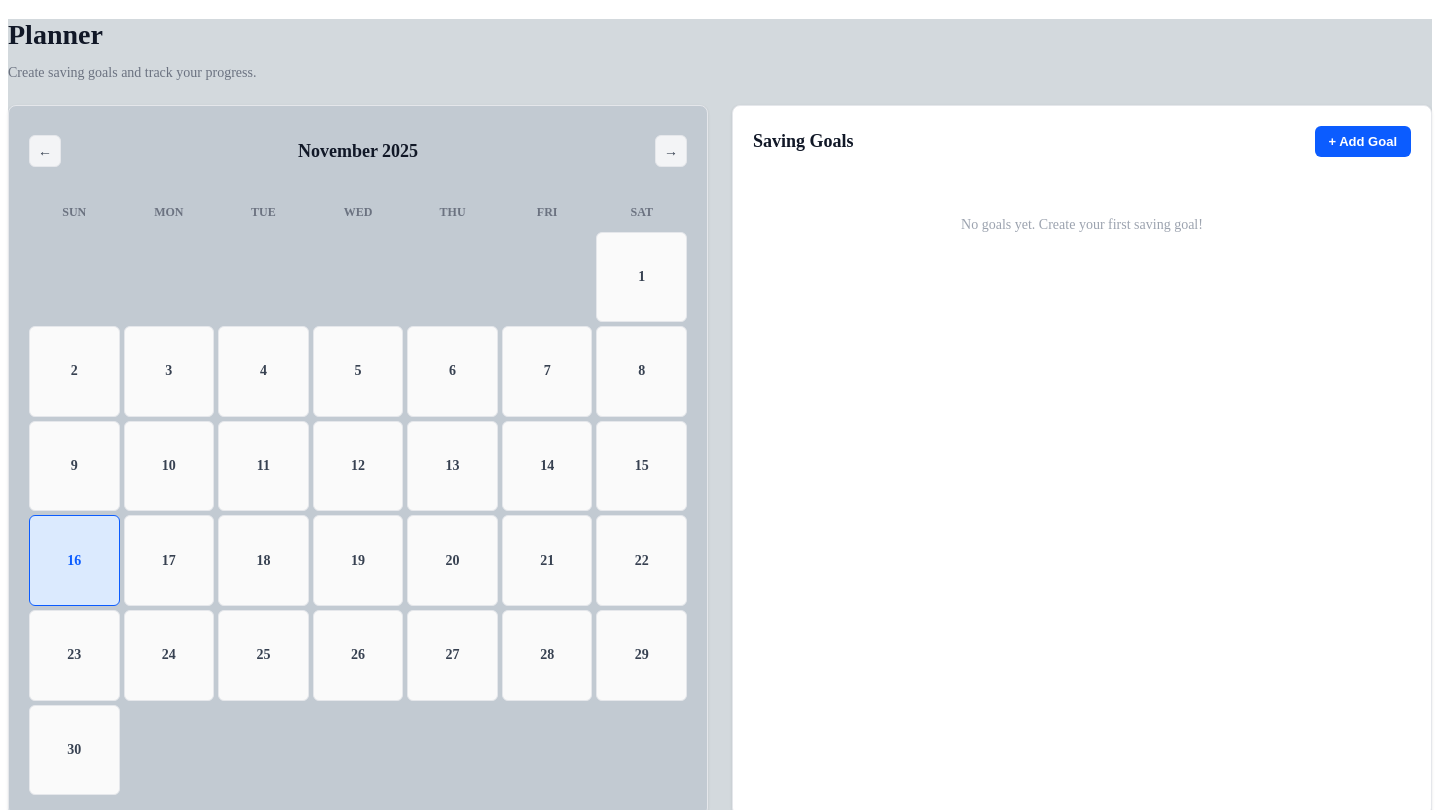
Test: FT13 - Planner Component Tests › Create New Saving Goals › should successfully create a new goal with all fields
Step 1. Click the button "+ Add Goal" → click(1363, 141), box [1314,126,1411,157]
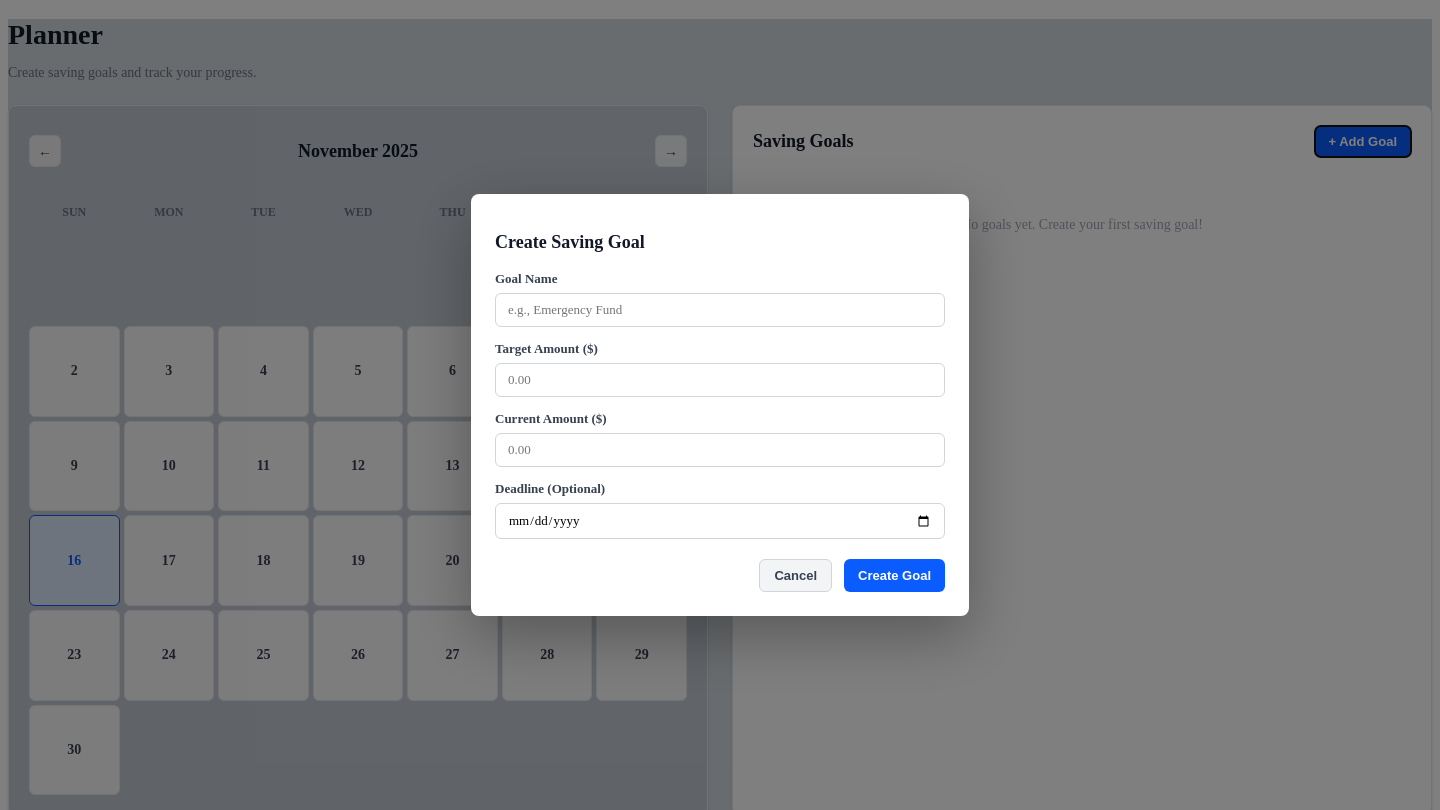
Result: the heading "Create Saving Goal" is shown at [495,232,645,252]
Step 2. Type "Emergency Fund" into the field with placeholder "e.g., Emergency Fund" → (720, 310), box [495,294,945,328]
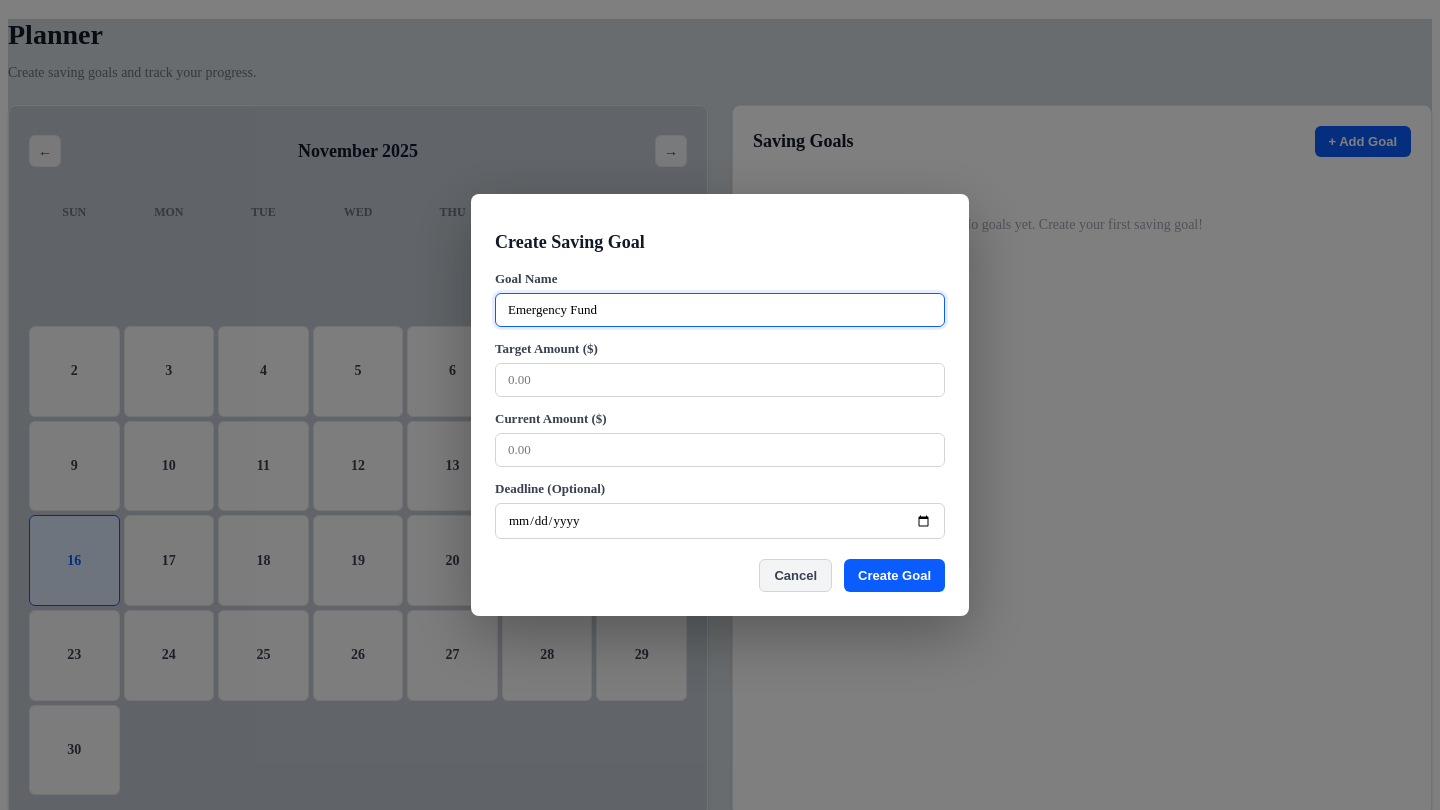
Step 3. Type "5000" into the number field with placeholder "0.00" below "Target Amount ($)" → (720, 380), box [495,364,945,398]
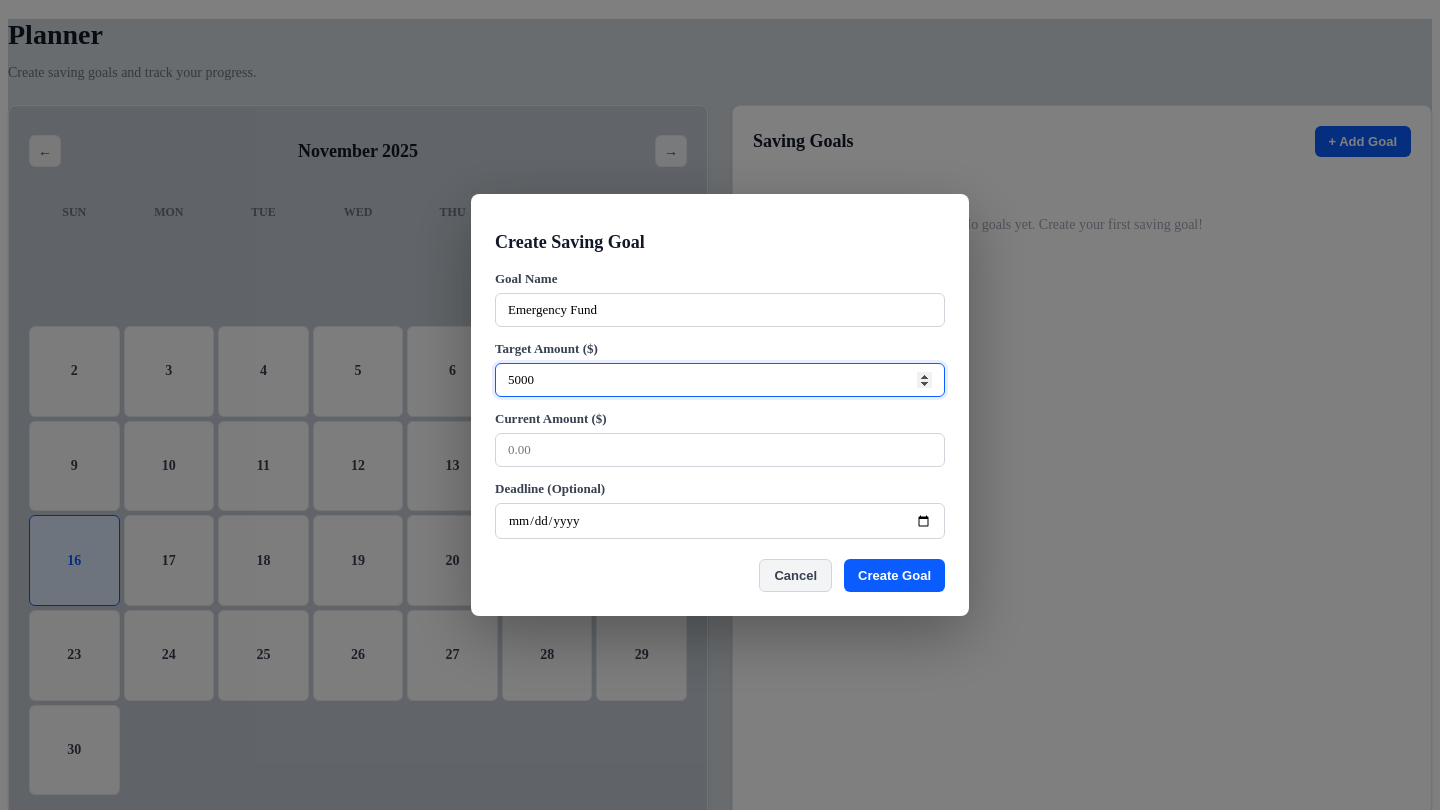
Step 4. Type "1000" into the number field with placeholder "0.00" → (720, 450), box [495,434,945,468]
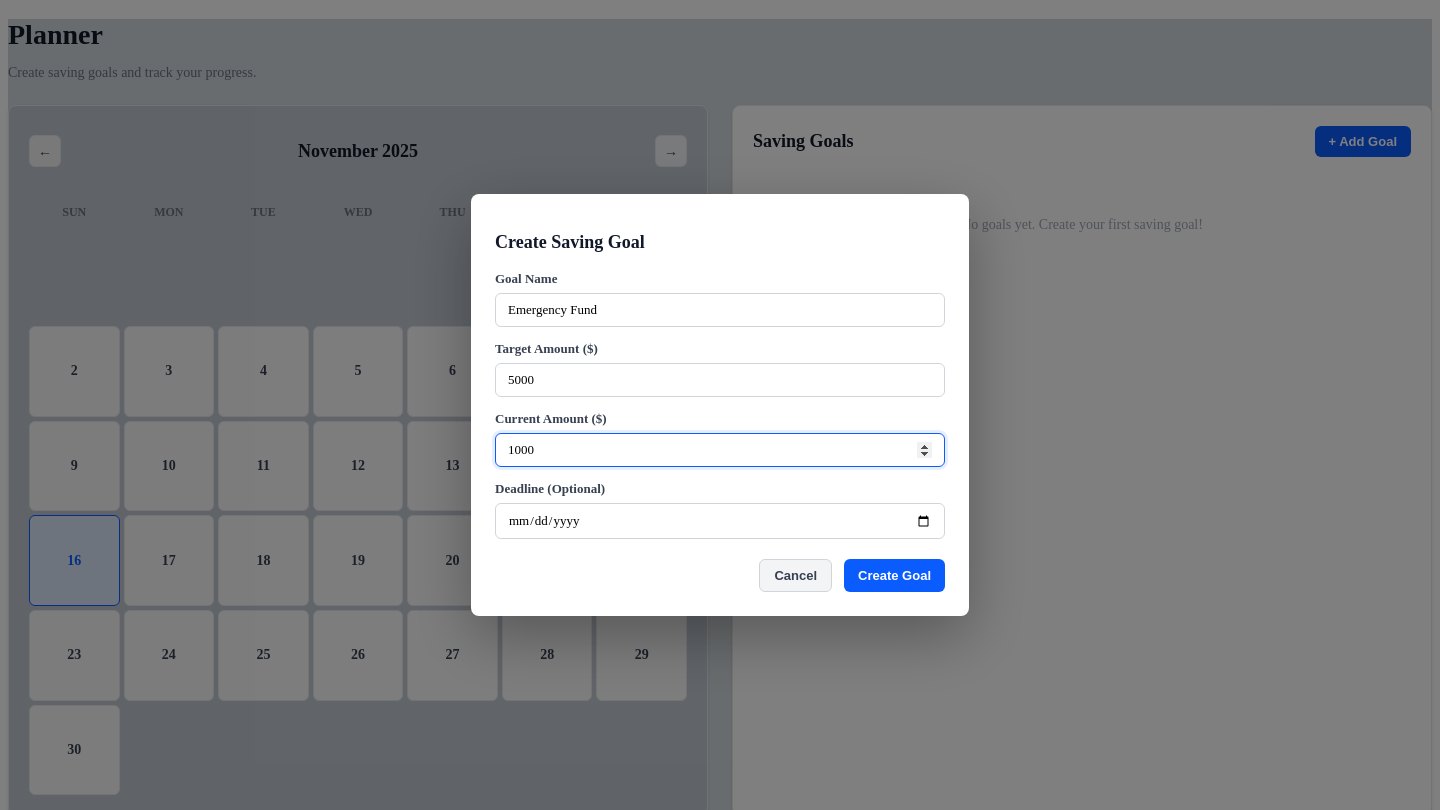
Step 5. Click the button "Create Goal" → click(894, 576), box [844,560,945,592]
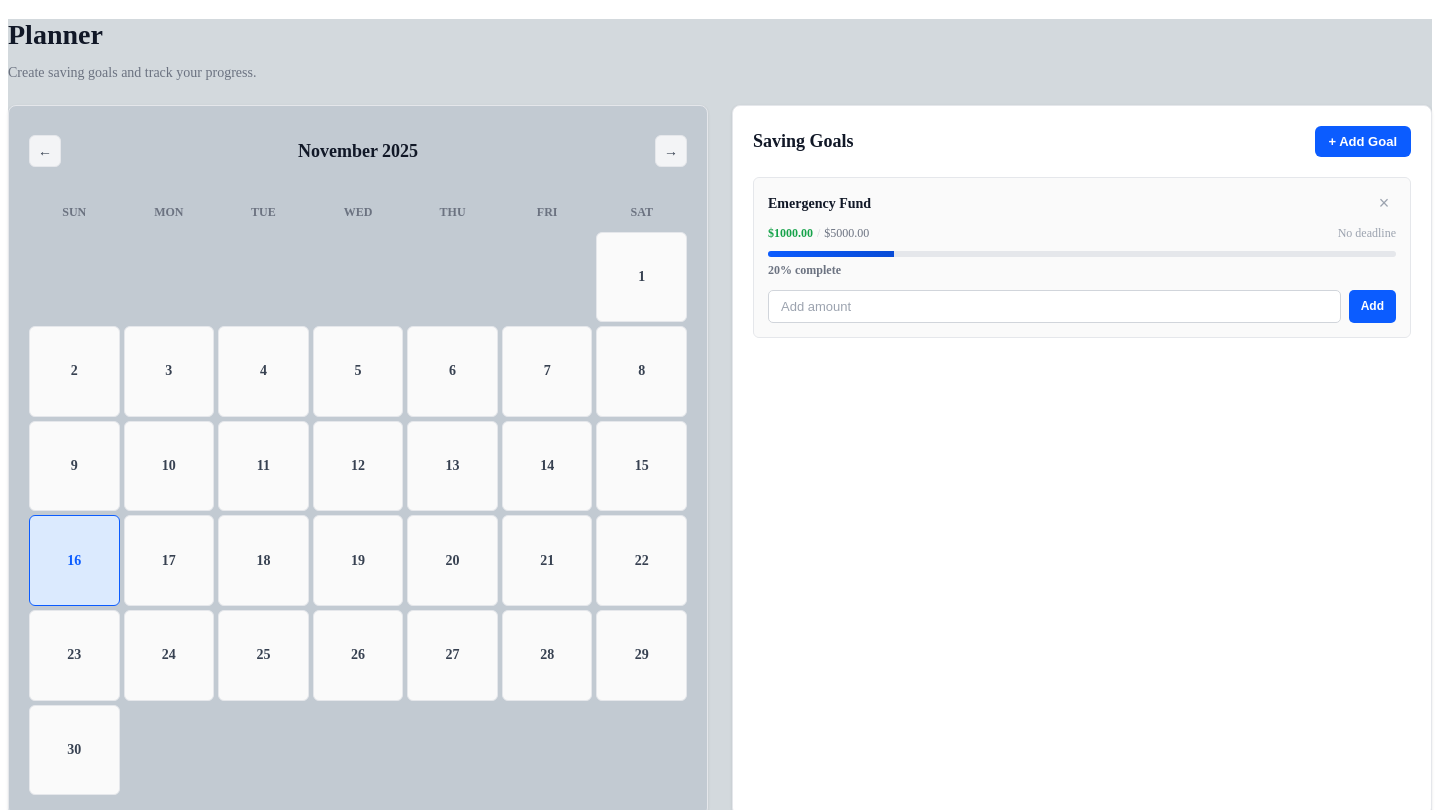
Result: the heading "Emergency Fund" is shown at [768,196,871,212]
